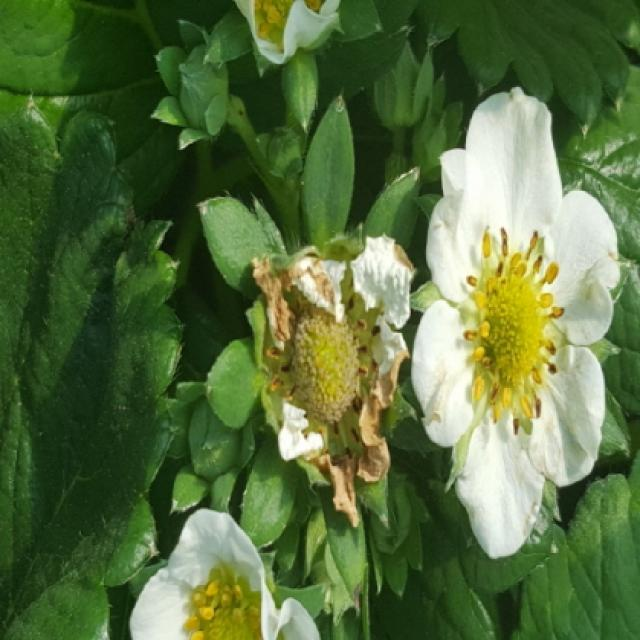Blossom Blight: (457, 222, 569, 440), (263, 275, 384, 464)
